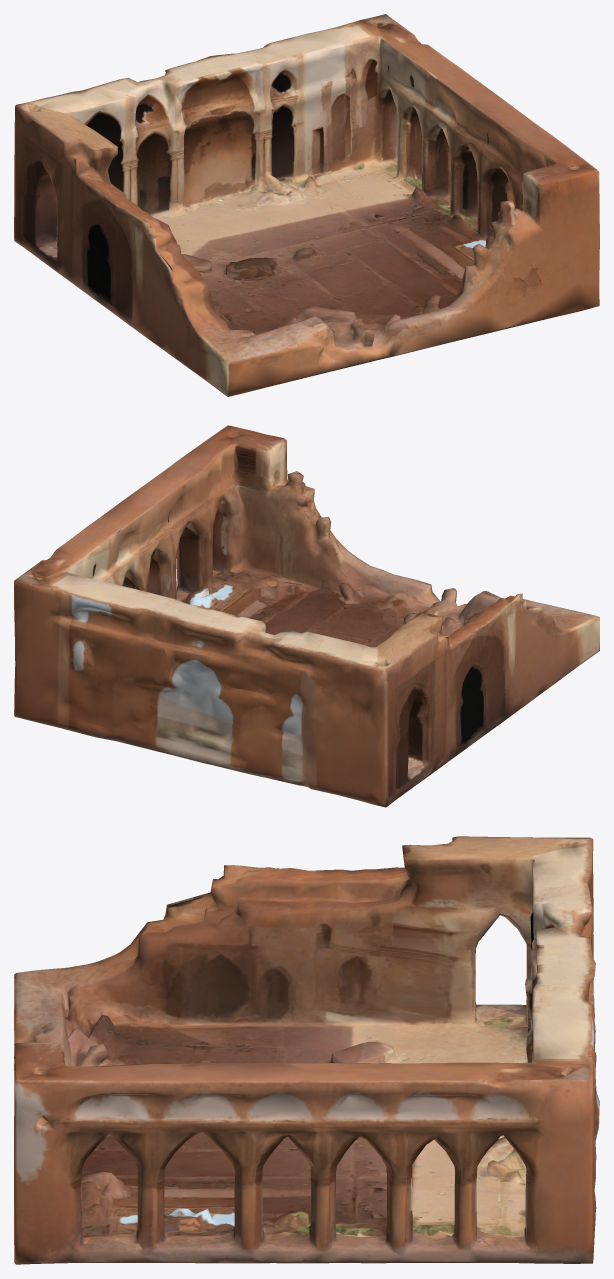
Rendered from ruins03.fbx.
3 renders of one model, top to bottom at view 1: azimuth 30°, elevation 25°; view 2: azimuth 150°, elevation 25°; view 3: azimuth 270°, elevation 25°, orthographic. The views are drawn at different scales.
Parts seen in each view (by area): view 1: Mesh1_Mesh1.157; view 2: Mesh1_Mesh1.157; view 3: Mesh1_Mesh1.157.
Part boxes in pixels (bbox=[...]): Mesh1_Mesh1.157: bbox=[14, 14, 599, 396]; Mesh1_Mesh1.157: bbox=[14, 425, 599, 807]; Mesh1_Mesh1.157: bbox=[14, 836, 599, 1264].
Size of the model in its own units: 199 by 69.43 by 200.
Materials: 1 (1 with a texture image).
